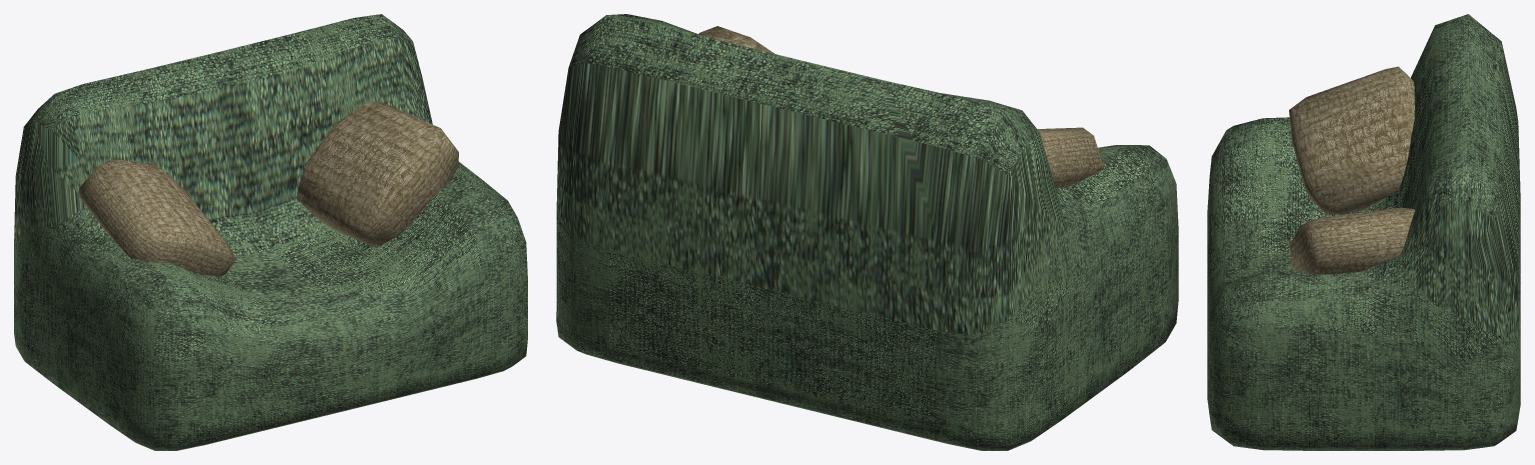
The model's file is sofa_02.glb.
The picture shows the model from 3 angles, left to right: view 1: azimuth 30°, elevation 25°; view 2: azimuth 150°, elevation 25°; view 3: azimuth 270°, elevation 25°; orthographic projection. The views are drawn at different scales.
Parts seen in each view (by area): view 1: Sofa_02; view 2: Sofa_02; view 3: Sofa_02.
Boxes of the visible parts, x1,y1,x2,y2 form: Sofa_02: [14, 14, 527, 450]; Sofa_02: [556, 14, 1178, 450]; Sofa_02: [1207, 14, 1520, 450].
Size of what is drawn, in the model's own units: 4.21 by 2.8 by 2.9.
2 materials, 2 textured.
